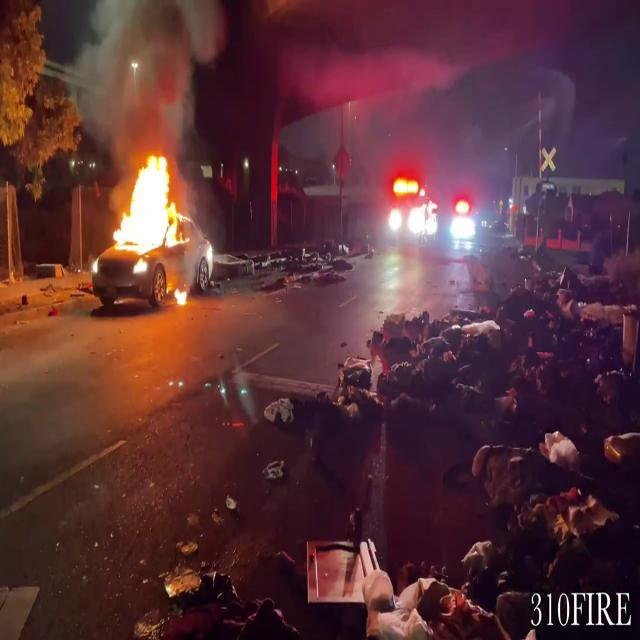Fire: (102, 150, 190, 260)
Smoke: (67, 0, 230, 156)
